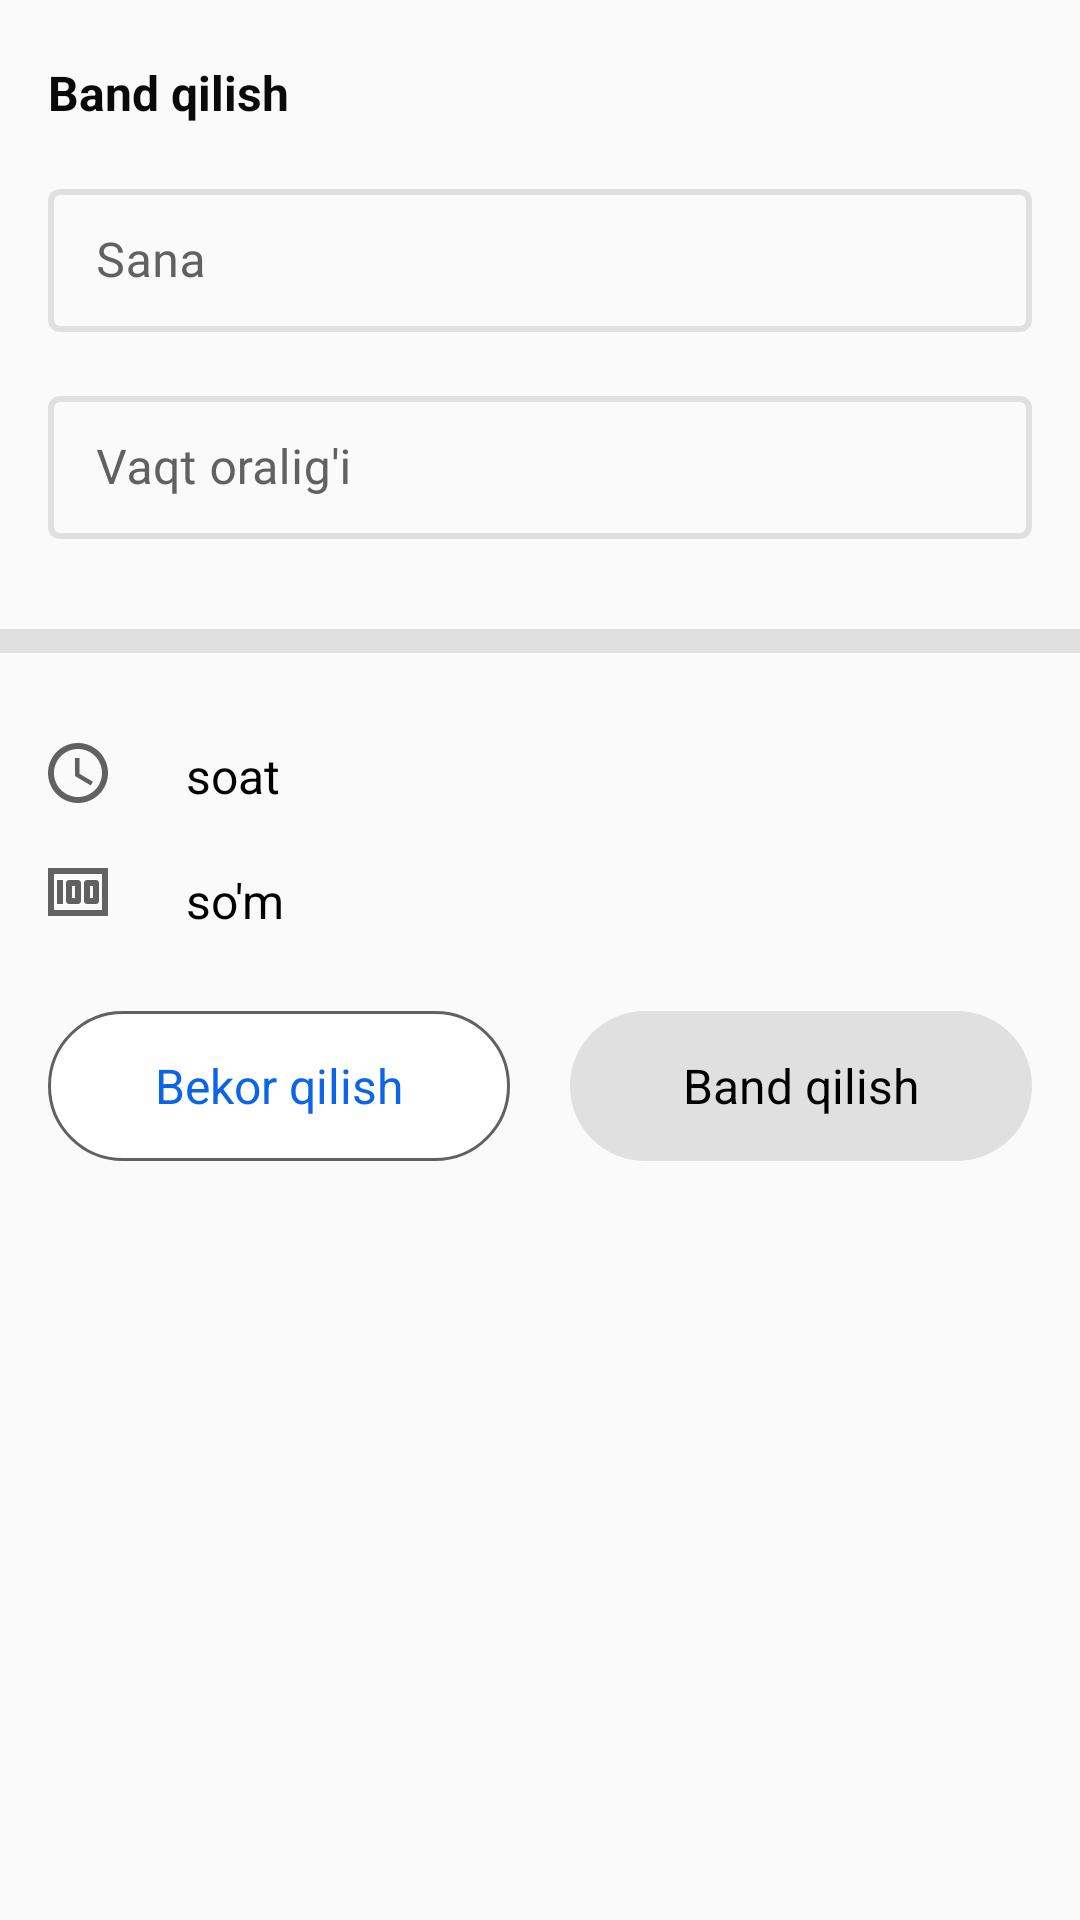

Named icons in this screenshot (1080×1920) and their centers, (x,y):
price: (78,892)
time: (78,773)
